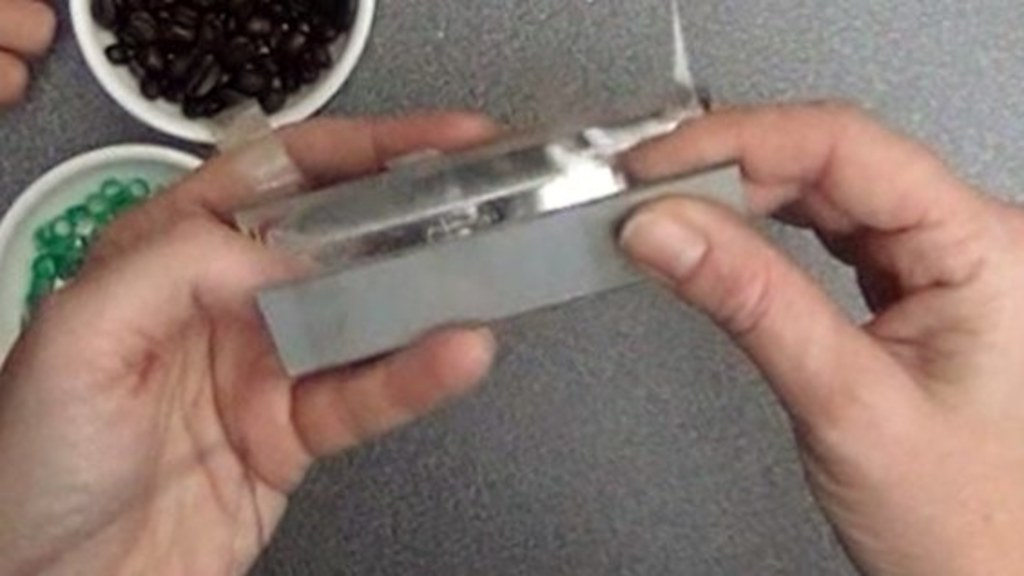person: (0, 0, 66, 139)
